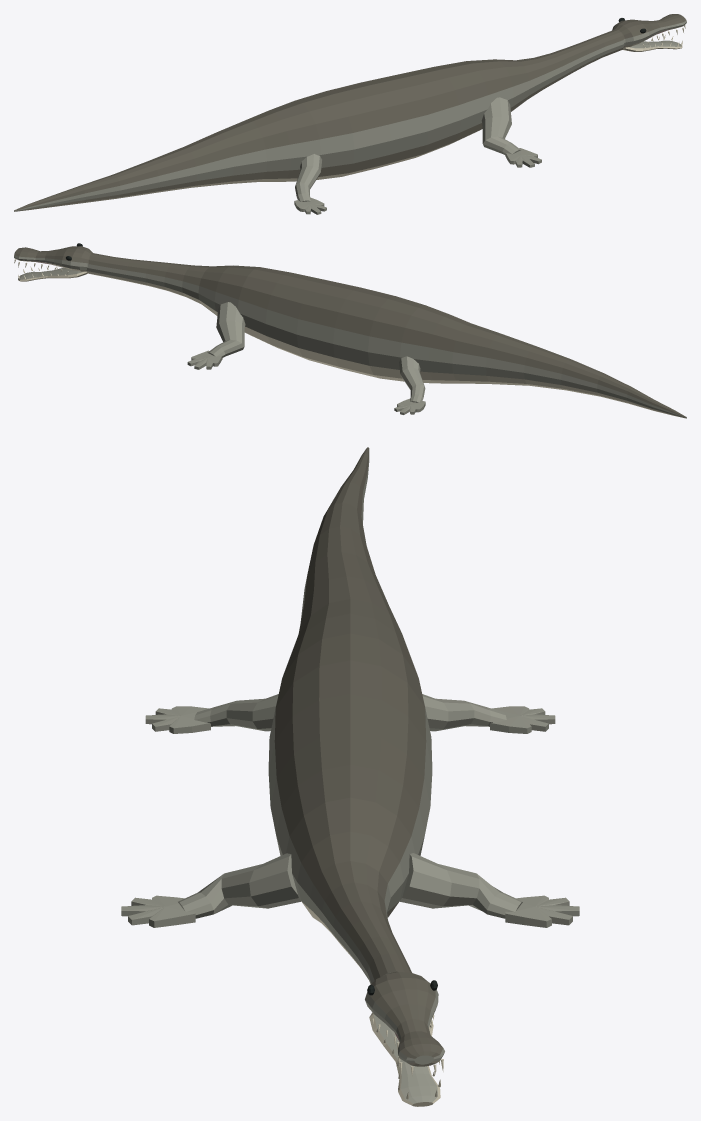
3 views of the same model, one above another, from view 1: azimuth 30°, elevation 25°; view 2: azimuth 150°, elevation 25°; view 3: azimuth 270°, elevation 25° (orthographic). The views are drawn at different scales.
Visible parts, largest first — view 1: Axial_body_neck_and_tail, Right_forelimb_and_webbed_foot, Elongate_constricted_upper_head, Right_hindlimb_and_webbed_foot, Opened_lower_mandible; view 2: Axial_body_neck_and_tail, Left_forelimb_and_webbed_foot, Elongate_constricted_upper_head, Left_hindlimb_and_webbed_foot, Opened_lower_mandible; view 3: Axial_body_neck_and_tail, Right_forelimb_and_webbed_foot, Left_forelimb_and_webbed_foot, Elongate_constricted_upper_head, Left_hindlimb_and_webbed_foot, Right_hindlimb_and_webbed_foot, Opened_lower_mandible.
Boxes of the visible parts, x1=… form: Axial_body_neck_and_tail: x1=14, y1=29, x2=623, y2=211; Right_forelimb_and_webbed_foot: x1=481, y1=97, x2=541, y2=167; Elongate_constricted_upper_head: x1=612, y1=14, x2=686, y2=47; Right_hindlimb_and_webbed_foot: x1=294, y1=154, x2=326, y2=214; Opened_lower_mandible: x1=622, y1=40, x2=682, y2=51; Axial_body_neck_and_tail: x1=86, y1=253, x2=686, y2=418; Left_forelimb_and_webbed_foot: x1=187, y1=302, x2=245, y2=369; Elongate_constricted_upper_head: x1=14, y1=246, x2=92, y2=271; Left_hindlimb_and_webbed_foot: x1=394, y1=356, x2=425, y2=414; Opened_lower_mandible: x1=18, y1=268, x2=87, y2=281; Axial_body_neck_and_tail: x1=268, y1=447, x2=432, y2=984; Right_forelimb_and_webbed_foot: x1=121, y1=853, x2=300, y2=927; Left_forelimb_and_webbed_foot: x1=400, y1=853, x2=579, y2=927; Elongate_constricted_upper_head: x1=365, y1=971, x2=444, y2=1066; Left_hindlimb_and_webbed_foot: x1=422, y1=694, x2=555, y2=733; Right_hindlimb_and_webbed_foot: x1=145, y1=694, x2=278, y2=733; Opened_lower_mandible: x1=369, y1=1012, x2=440, y2=1106.
Bounding box in the file's own units: 3.04 × 0.34 × 0.9171.
